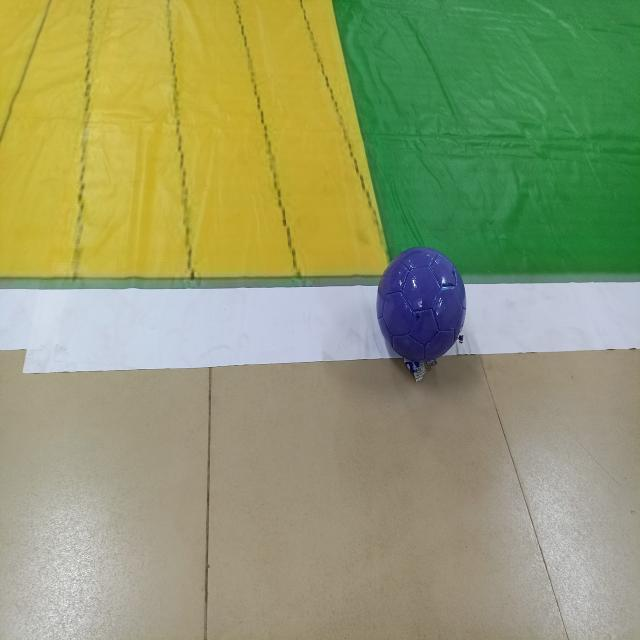purple_ball: (379, 249, 464, 367)
